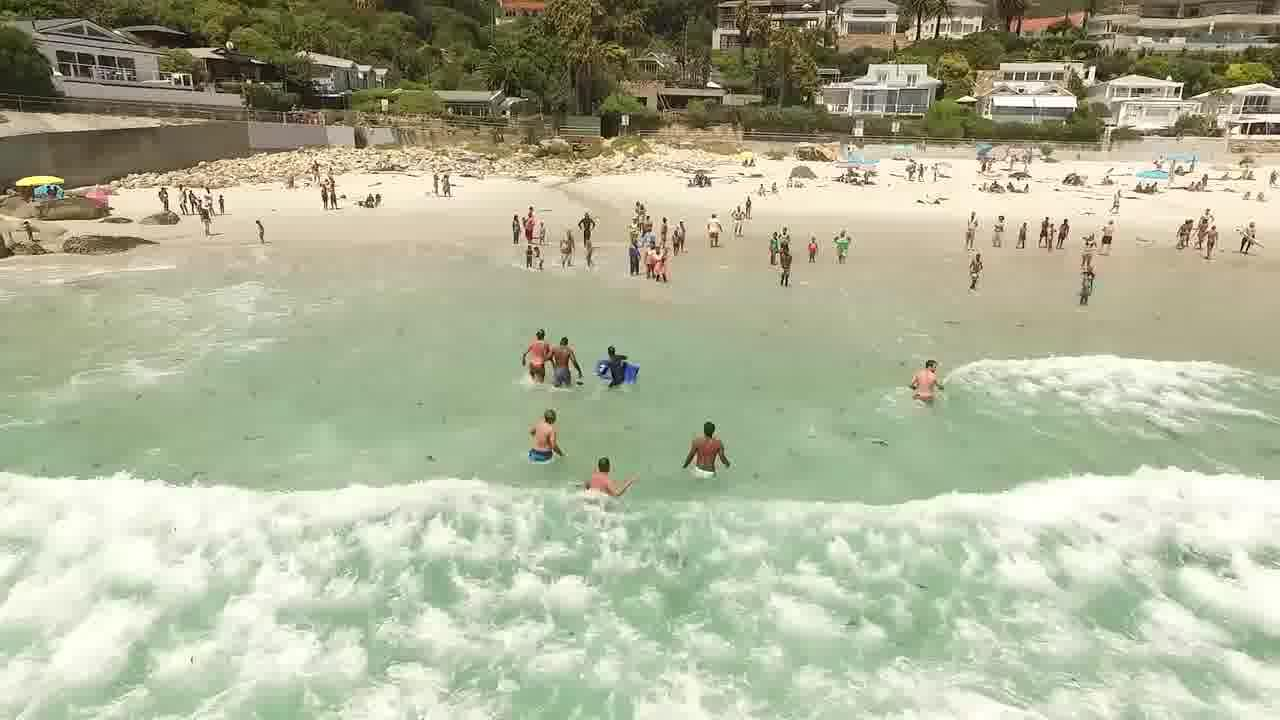swimmer: (687, 413, 724, 484), (586, 444, 619, 509), (905, 354, 940, 411), (519, 400, 558, 451), (599, 339, 638, 385), (554, 321, 571, 393), (530, 320, 541, 367)
